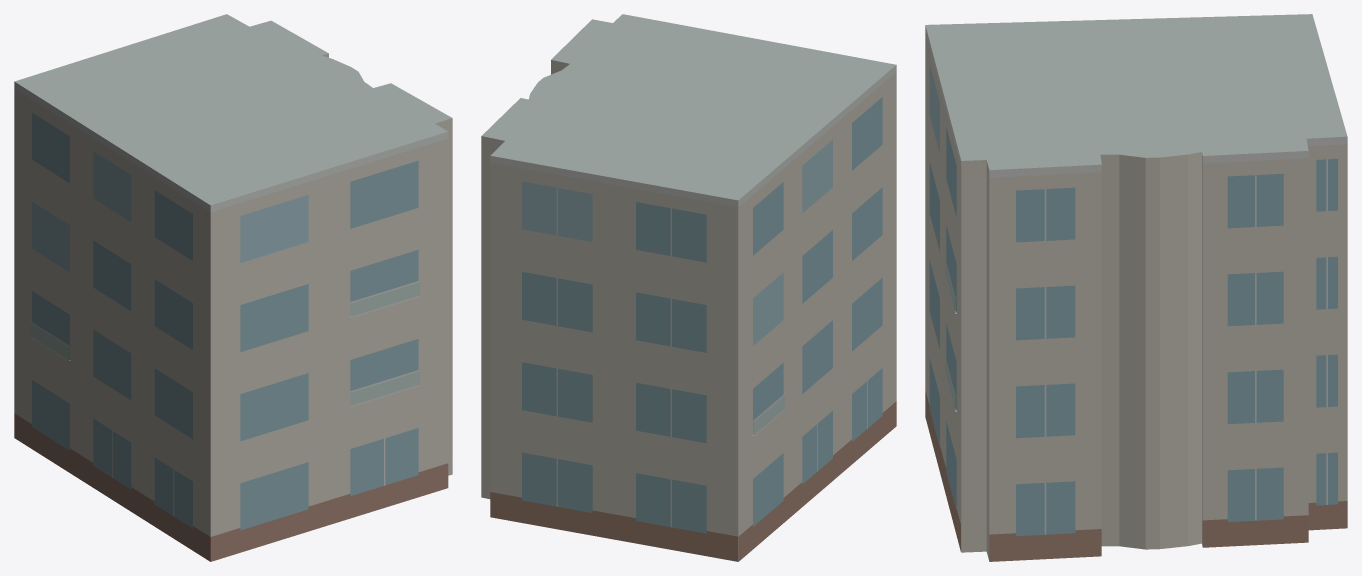
The model's file is survey-upis-32916669.glb.
The picture shows the model from 3 angles, left to right: view 1: azimuth 30°, elevation 25°; view 2: azimuth 150°, elevation 25°; view 3: azimuth 270°, elevation 25°; orthographic projection. The views are drawn at different scales.
Parts seen in each view (by area): view 1: survey-upis-32916669.tmp; view 2: survey-upis-32916669.tmp; view 3: survey-upis-32916669.tmp.
Part boxes in pixels (x1,y1,x2,y2): survey-upis-32916669.tmp: (14, 14, 452, 561); survey-upis-32916669.tmp: (481, 14, 896, 561); survey-upis-32916669.tmp: (925, 14, 1347, 561).
Size of the model in its own units: 10.96 by 12.8 by 12.52.
